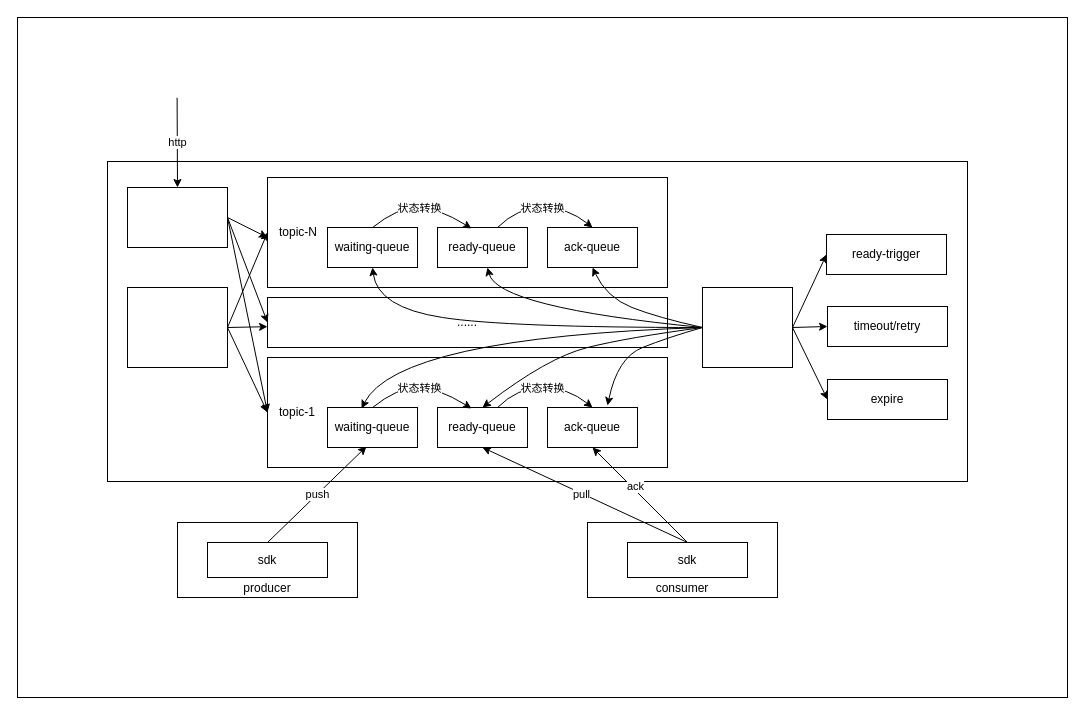
The diagram is 1085 pixels wide and 715 high, and some of its shapes have lost their labels. The centre of each missing label's shape, as x and y in pixels:
"monitor" goes at point 177,217.
"msg-schedule" goes at point 747,327.
"topic-manager" goes at point 177,327.
